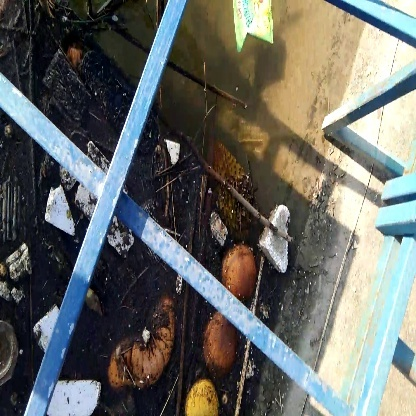plastic-garbage: (257, 198, 309, 272)
